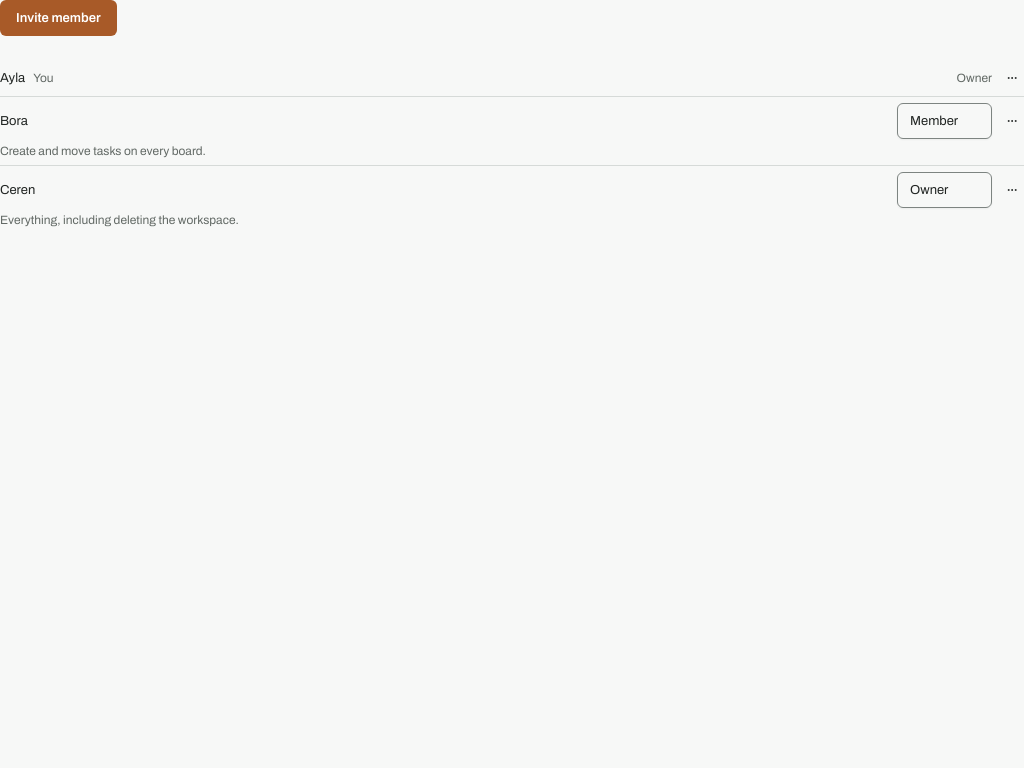
Test: MembersSettings — changing a role › promoting someone to owner › keeps the confirmation open and shows the failure inside it, rather than closing
Check: the text "Bora" is shown, box left=0, top=112, right=28, bottom=130
Select "Owner" in the dropdown named "Role for Bora" at (944,121), box left=897, top=103, right=992, bottom=139
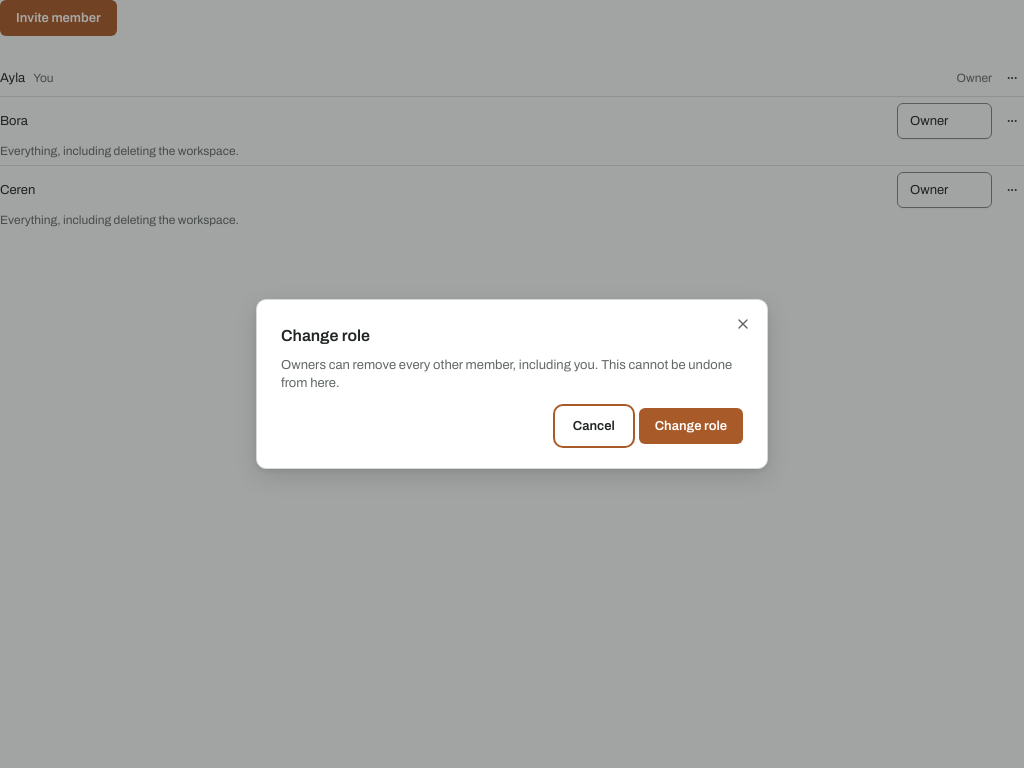
Click the button "Change role" at (691,426), box left=639, top=408, right=743, bottom=444
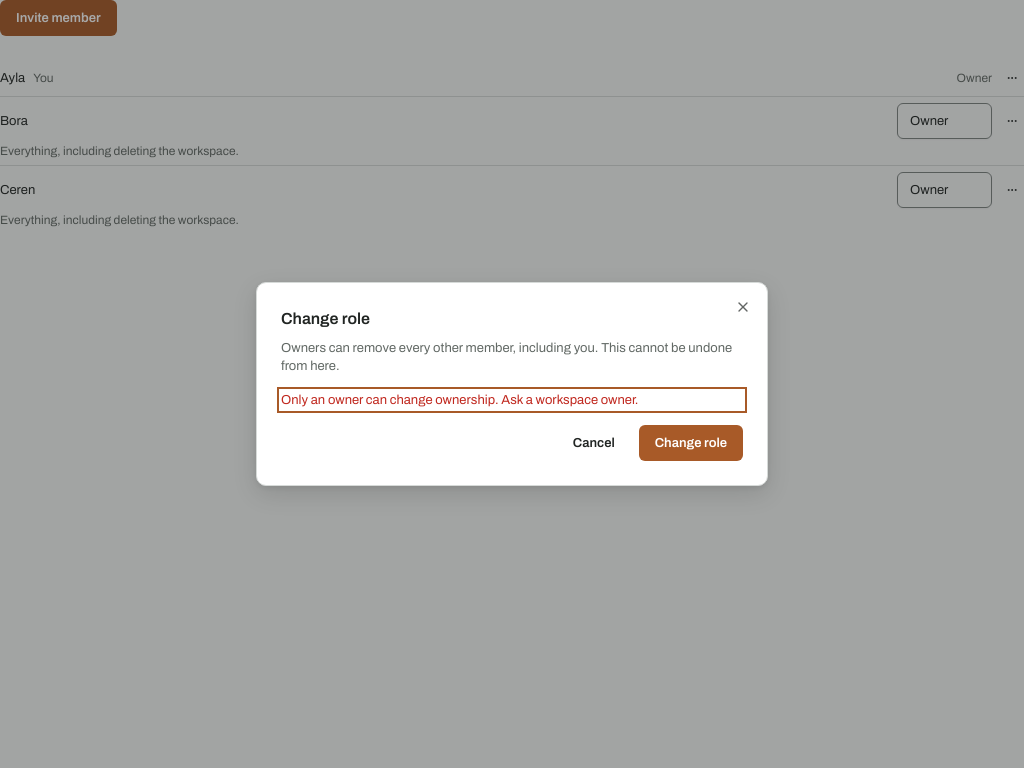
Check: the dialog is shown, box left=256, top=282, right=768, bottom=486
Check: the text "Only an owner can change ownership. Ask a workspace owner." is shown, box left=281, top=393, right=638, bottom=407
